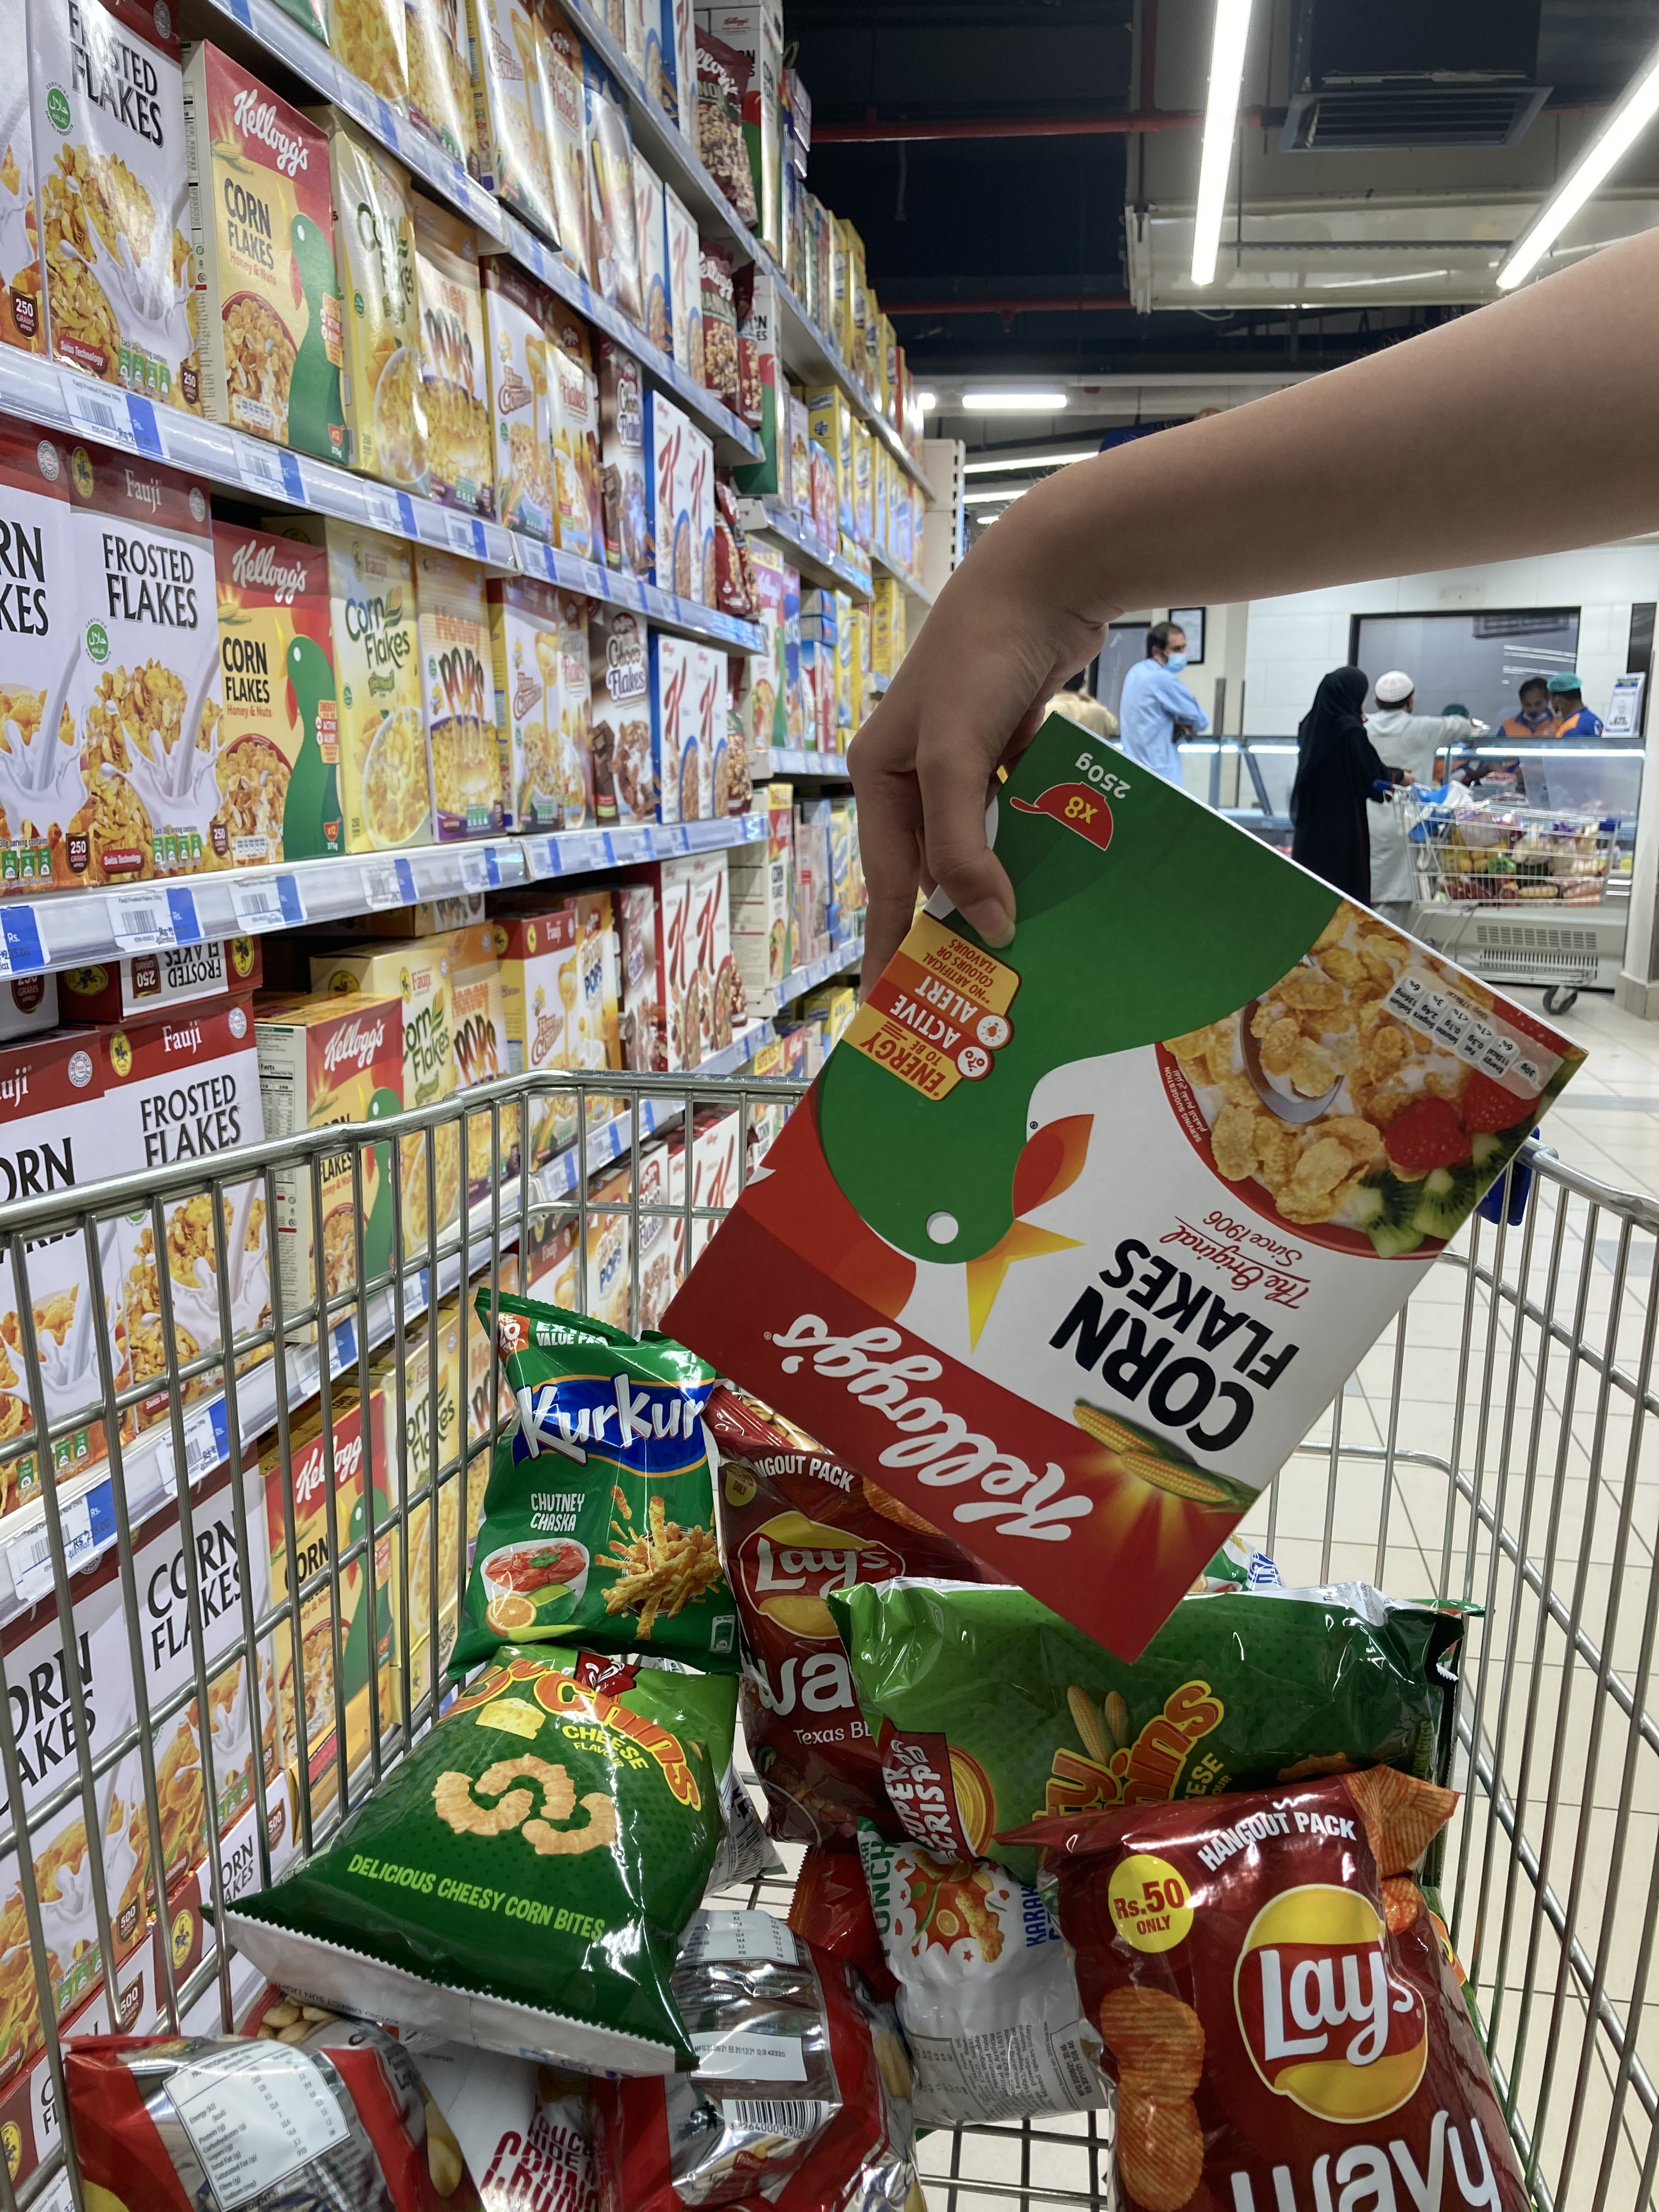Kellogg's Corn Flakes: (664, 712, 1596, 1669)
